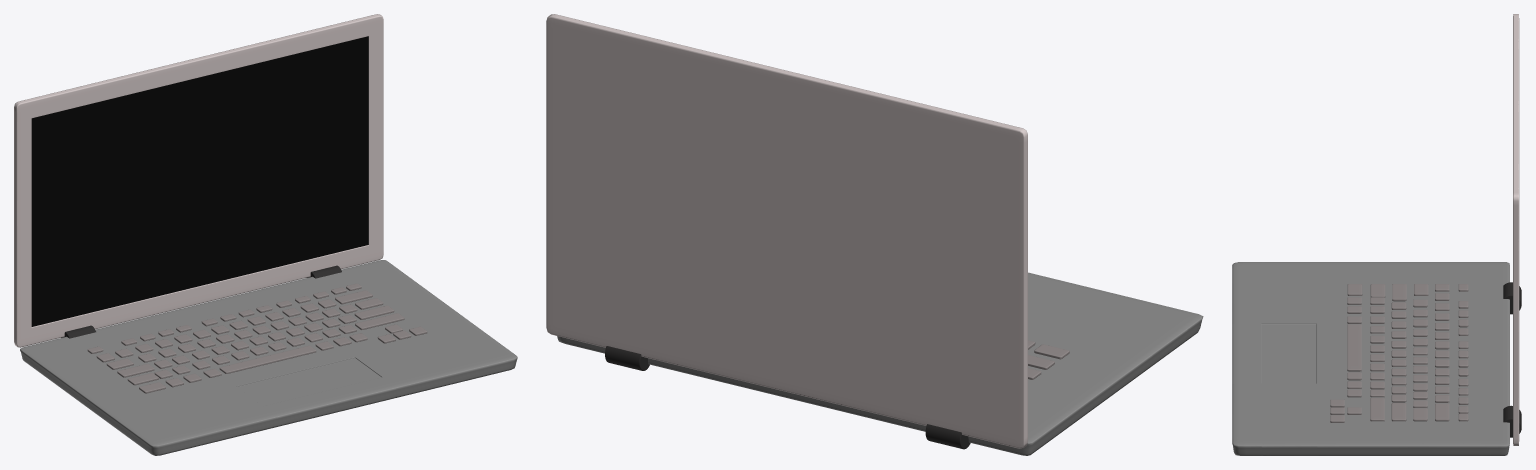
Rendered from laptop_textur.fbx.
3 renders of one model, left to right at view 1: azimuth 30°, elevation 25°; view 2: azimuth 150°, elevation 25°; view 3: azimuth 270°, elevation 25°, orthographic. The views are drawn at different scales.
Parts seen in each view (by area): view 1: pantalla_lp, teclado_base_lp, pantalla_lap_lp, tecla71_lp; view 2: pantalla_lap_lp, teclado_base_lp, respaldo2_lp, respaldo1_lp; view 3: teclado_base_lp, pantalla_lap_lp, tecla71_lp, tecla77_lp, tecla76_lp.
Part boxes in pixels (x1=…): pantalla_lp: x1=31, y1=36, x2=368, y2=326; teclado_base_lp: x1=20, y1=260, x2=517, y2=455; pantalla_lap_lp: x1=14, y1=14, x2=383, y2=347; tecla71_lp: x1=219, y1=345, x2=316, y2=373; pantalla_lap_lp: x1=546, y1=14, x2=1027, y2=448; teclado_base_lp: x1=557, y1=272, x2=1203, y2=455; respaldo2_lp: x1=925, y1=424, x2=970, y2=449; respaldo1_lp: x1=605, y1=346, x2=649, y2=370; teclado_base_lp: x1=1232, y1=262, x2=1509, y2=455; pantalla_lap_lp: x1=1513, y1=14, x2=1519, y2=445; tecla71_lp: x1=1347, y1=324, x2=1361, y2=371; tecla77_lp: x1=1370, y1=398, x2=1384, y2=421; tecla76_lp: x1=1391, y1=403, x2=1406, y2=421.
Size of the model in its own units: 16.7 by 11.19 by 11.09.
Materials: 5 (5 with a texture image).
